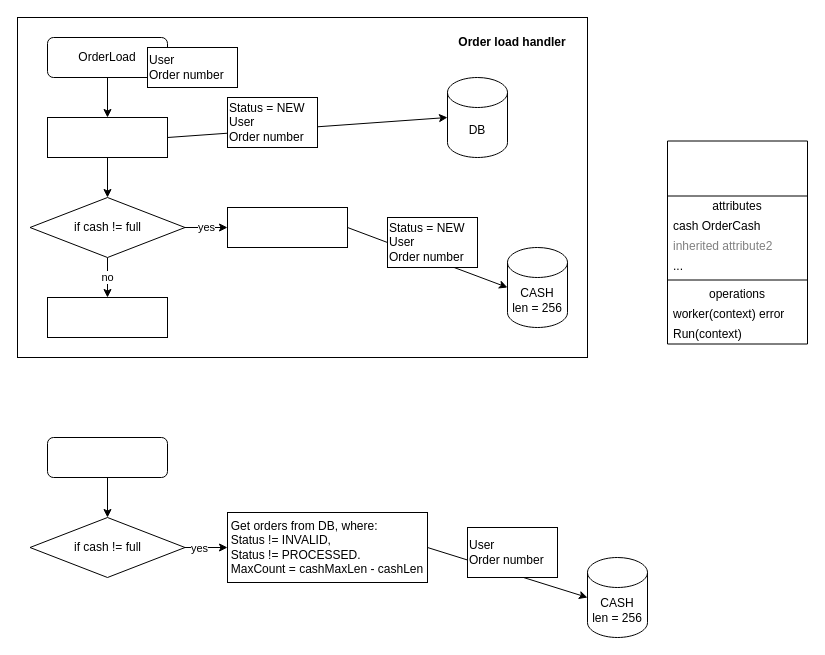
Image size: 825x655. Some labels were removed from this diagram. The box of each missing label's shape, as (x1, y1, x2, y2) in pixels:
Exit: (46, 296, 168, 338)
OrderProvider: (666, 140, 808, 344)
OrderProvider.worker: (46, 436, 168, 478)
Save to CASH (status NEW): (226, 206, 348, 248)
Save to DB (status NEW): (46, 116, 168, 158)
